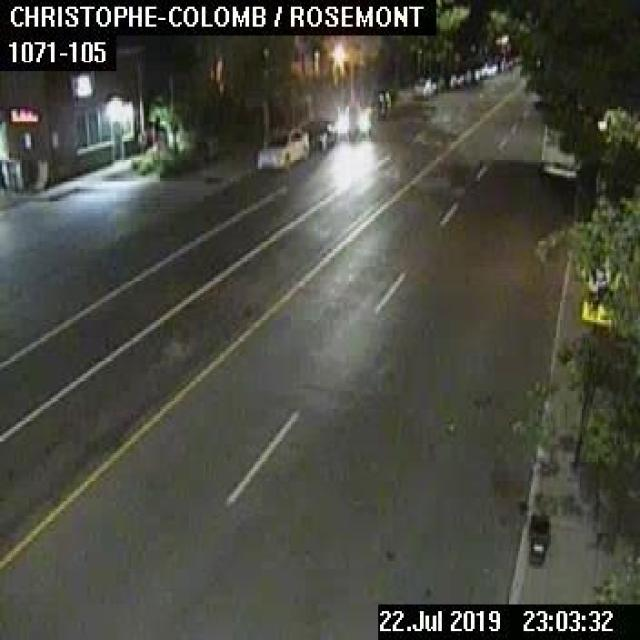vehicle: (256, 126, 306, 170), (539, 123, 580, 176), (304, 118, 336, 149), (412, 76, 435, 97), (447, 68, 470, 88)
